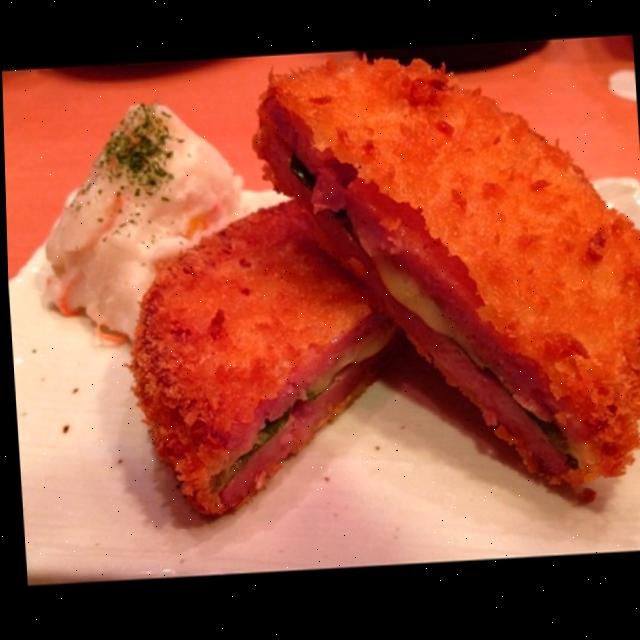炸货点心: (64, 27, 640, 542)
